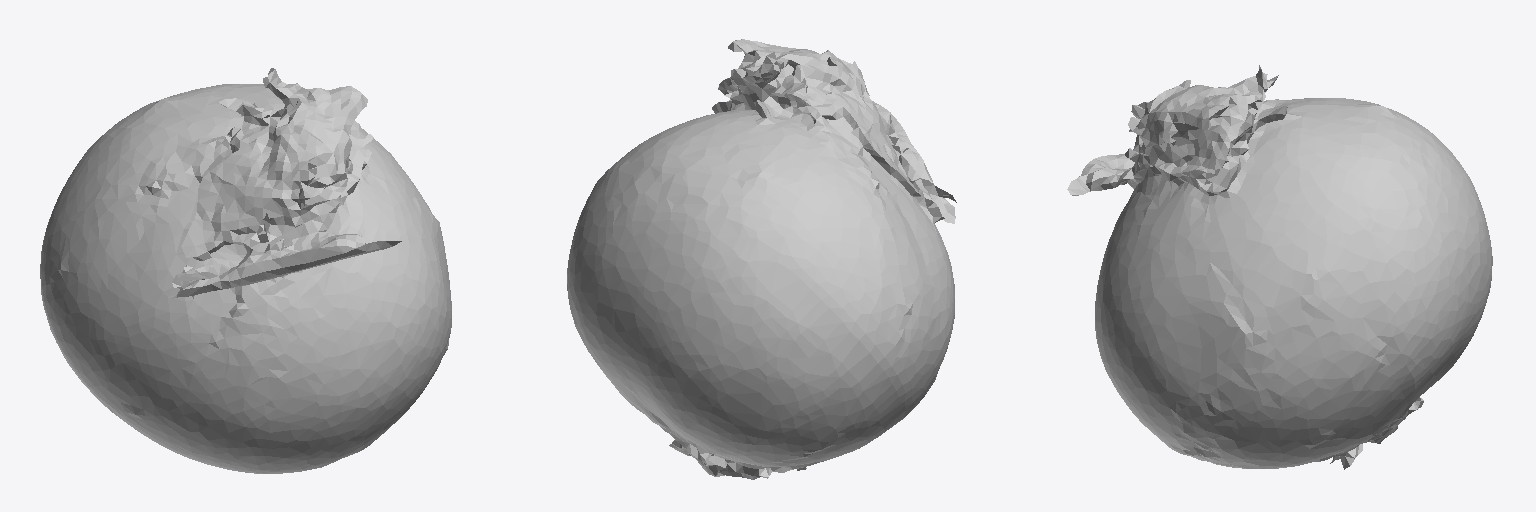
The model's file is onion.obj.
The picture shows the model from 3 angles: view 1: azimuth 30°, elevation 25°; view 2: azimuth 150°, elevation 25°; view 3: azimuth 270°, elevation 25°; orthographic projection.
Parts seen in each view (by area): view 1: onion_II; view 2: onion_II; view 3: onion_II.
Boxes of the visible parts, box(x1,y1,x2,y2) form: onion_II: box(40, 68, 451, 473); onion_II: box(567, 39, 956, 479); onion_II: box(1067, 65, 1492, 469).
Size of the model in its own units: 2.2 by 2.38 by 2.34.